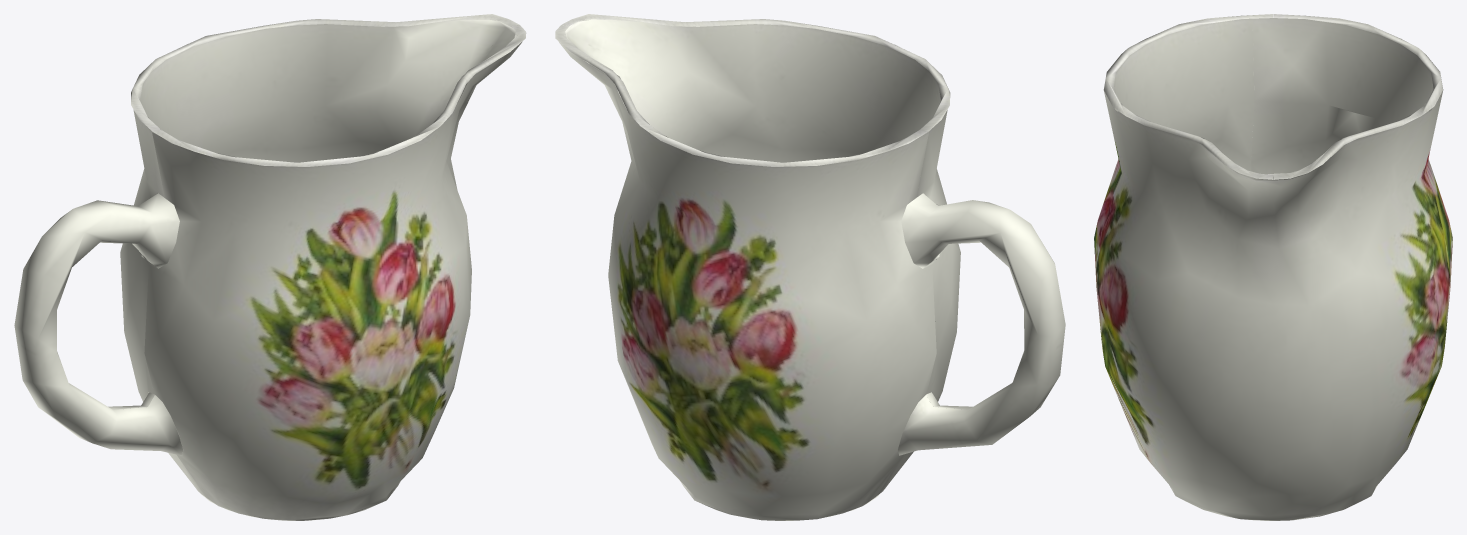
File: jug_01.gltf
The picture shows the model from 3 angles, left to right: view 1: azimuth 30°, elevation 25°; view 2: azimuth 150°, elevation 25°; view 3: azimuth 270°, elevation 25°; orthographic projection. The views are drawn at different scales.
Visible parts, largest first — view 1: jug_01; view 2: jug_01; view 3: jug_01.
Boxes of the visible parts, bbox=[...] form: jug_01: bbox=[14, 14, 526, 520]; jug_01: bbox=[555, 14, 1065, 520]; jug_01: bbox=[1094, 14, 1452, 520].
Size of the model in its own units: 0.276 by 0.2105 by 0.1673.
Materials: 1 (1 with a texture image).
